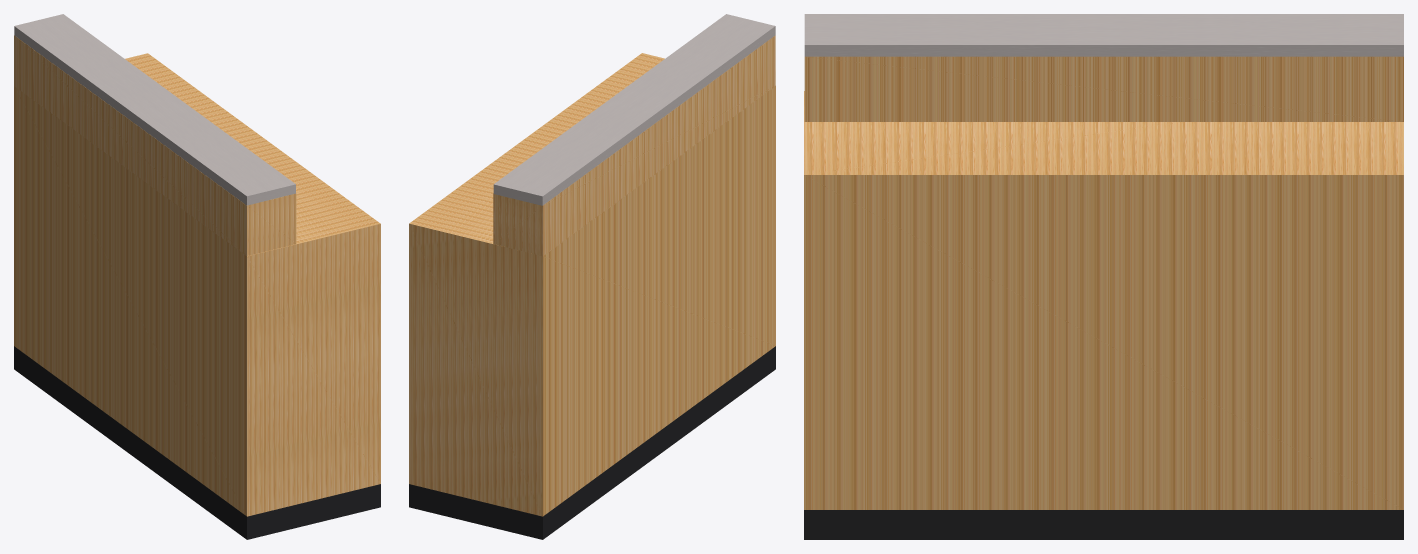
File: BarraVasos.obj
3 renders of one model, left to right at view 1: azimuth 30°, elevation 25°; view 2: azimuth 150°, elevation 25°; view 3: azimuth 270°, elevation 25°, orthographic. The views are drawn at different scales.
Parts seen in each view (by area): view 1: BarraPrincipal2:pCube3; view 2: BarraPrincipal2:pCube3; view 3: BarraPrincipal2:pCube3.
Part boxes in pixels (box(x1,y1,x2,y2)): BarraPrincipal2:pCube3: box(14, 14, 380, 539); BarraPrincipal2:pCube3: box(409, 14, 775, 539); BarraPrincipal2:pCube3: box(804, 14, 1403, 539).
Bounding box in the file's own units: 0.8254 × 2.02 × 2.49.
Materials: 3 (3 with a texture image).
